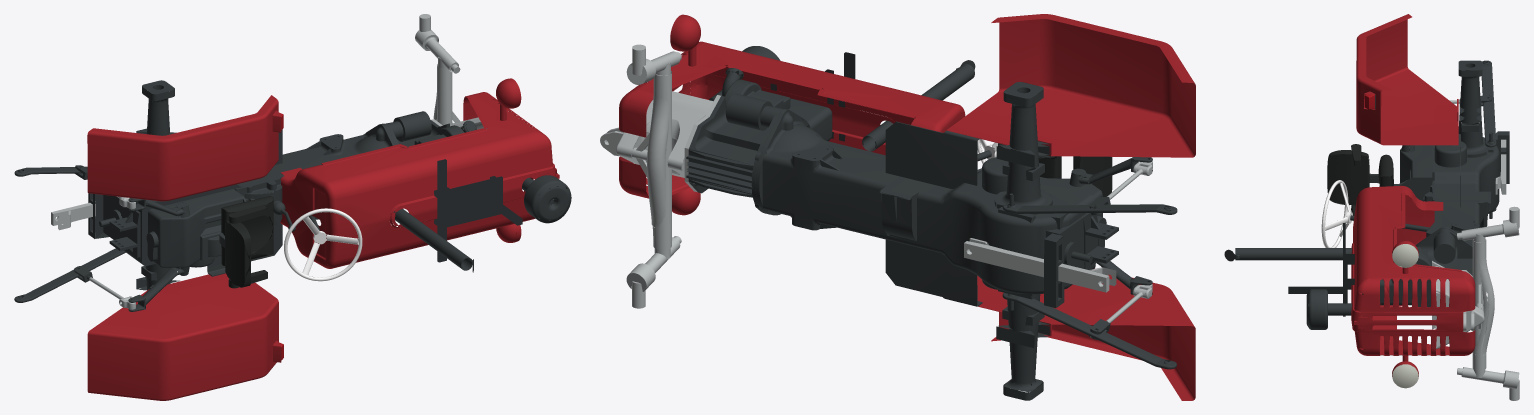
Rendered from vehicle_visual.obj.
3 views of the same model, side by side, from view 1: azimuth 30°, elevation 25°; view 2: azimuth 150°, elevation 25°; view 3: azimuth 270°, elevation 25° (orthographic). The views are drawn at different scales.
Parts seen in each view (by area): view 1: 0033_MudGuard_MirrorDefault, 0036_Hood_Default<As_Machined>, 0034_MudGuard, 0055_Liftng_Block, 0035_Dashboard, 0062_Block_Default<As_Machined>, 0052_Clutch_Block, 0032_Grill, SensorMount_front_plate, 0051_Motor, 0040_Hood_Default<As_Machined>, 0004_Seat (+14 smaller); view 2: 0034_MudGuard, 0062_Block_Default<As_Machined>, 0052_Clutch_Block, 0033_MudGuard_MirrorDefault, 0051_Motor, 0036_Hood_Default<As_Machined>, 0061_Block_Default<As_Machined>, 0032_Grill, 0031_Axle, 0063_Block_Default<As_Machined>, 0066_Pivot_Axle, 0056_Coupling (+16 smaller); view 3: 0034_MudGuard, 0032_Grill, 0062_Block_Default<As_Machined>, 0036_Hood_Default<As_Machined>, 0051_Motor, 0031_Axle, 0005_Seat, 0035_Dashboard, 0055_Liftng_Block, 0052_Clutch_Block, 0037_Hood_Default<As_Machined>, 0042_Lift_LowerArm (+14 smaller).
Part boxes in pixels (left/top/right/bottom): 0033_MudGuard_MirrorDefault: left=87, top=273, right=281, bottom=400; 0036_Hood_Default<As_Machined>: left=321, top=118, right=538, bottom=264; 0034_MudGuard: left=87, top=95, right=280, bottom=201; 0055_Liftng_Block: left=140, top=185, right=246, bottom=267; 0035_Dashboard: left=280, top=165, right=350, bottom=268; 0062_Block_Default<As_Machined>: left=99, top=80, right=284, bottom=290; 0052_Clutch_Block: left=273, top=123, right=395, bottom=230; 0032_Grill: left=463, top=92, right=559, bottom=219; SensorMount_front_plate: left=447, top=176, right=502, bottom=227; 0051_Motor: left=367, top=111, right=476, bottom=147; 0040_Hood_Default<As_Machined>: left=524, top=175, right=571, bottom=223; 0004_Seat: left=221, top=196, right=273, bottom=265; 0034_MudGuard: left=947, top=14, right=1195, bottom=157; 0062_Block_Default<As_Machined>: left=879, top=82, right=1118, bottom=400; 0052_Clutch_Block: left=755, top=109, right=991, bottom=239; 0033_MudGuard_MirrorDefault: left=977, top=268, right=1195, bottom=400; 0051_Motor: left=686, top=68, right=832, bottom=214; 0036_Hood_Default<As_Machined>: left=685, top=44, right=940, bottom=155; 0061_Block_Default<As_Machined>: left=885, top=121, right=979, bottom=188; 0032_Grill: left=619, top=41, right=721, bottom=198; 0031_Axle: left=631, top=70, right=684, bottom=250; 0063_Block_Default<As_Machined>: left=885, top=239, right=982, bottom=306; 0066_Pivot_Axle: left=600, top=91, right=720, bottom=192; 0056_Coupling: left=964, top=238, right=1116, bottom=292; 0034_MudGuard: left=1356, top=14, right=1458, bottom=145; 0032_Grill: left=1351, top=264, right=1475, bottom=355; 0062_Block_Default<As_Machined>: left=1434, top=60, right=1499, bottom=227; 0036_Hood_Default<As_Machined>: left=1351, top=192, right=1405, bottom=351; 0051_Motor: left=1362, top=228, right=1472, bottom=307; 0031_Axle: left=1472, top=239, right=1494, bottom=370; 0005_Seat: left=1327, top=150, right=1369, bottom=204; 0035_Dashboard: left=1353, top=185, right=1443, bottom=244; 0055_Liftng_Block: left=1394, top=145, right=1434, bottom=200; 0052_Clutch_Block: left=1350, top=202, right=1479, bottom=245; 0037_Hood_Default<As_Machined>: left=1235, top=248, right=1351, bottom=260; 0042_Lift_LowerArm: left=1481, top=60, right=1496, bottom=147.
Size of the model in its own units: 3.6 by 1.88 by 2.14.
